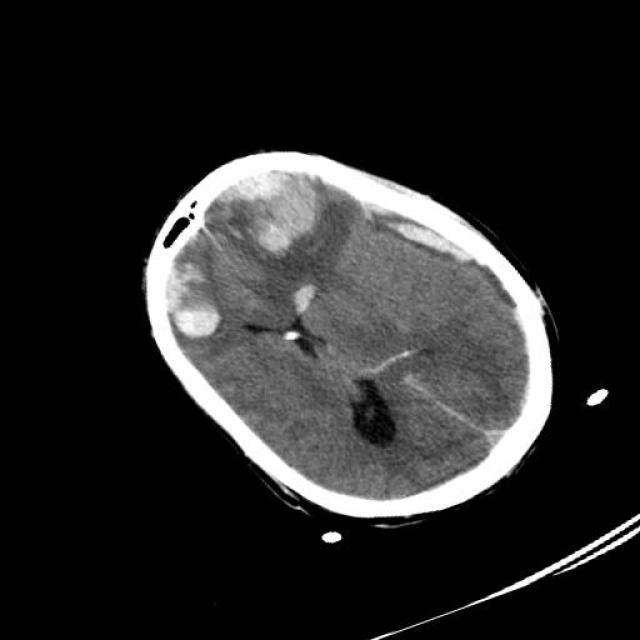Intraparenchymal: (190, 113, 376, 281), (127, 221, 251, 361)
Subdural: (367, 156, 558, 368)
